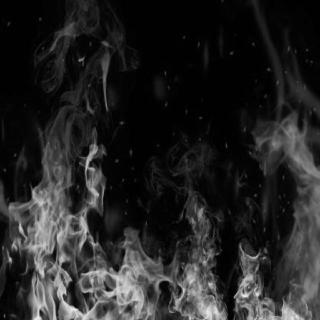Fire: (11, 40, 315, 316)
